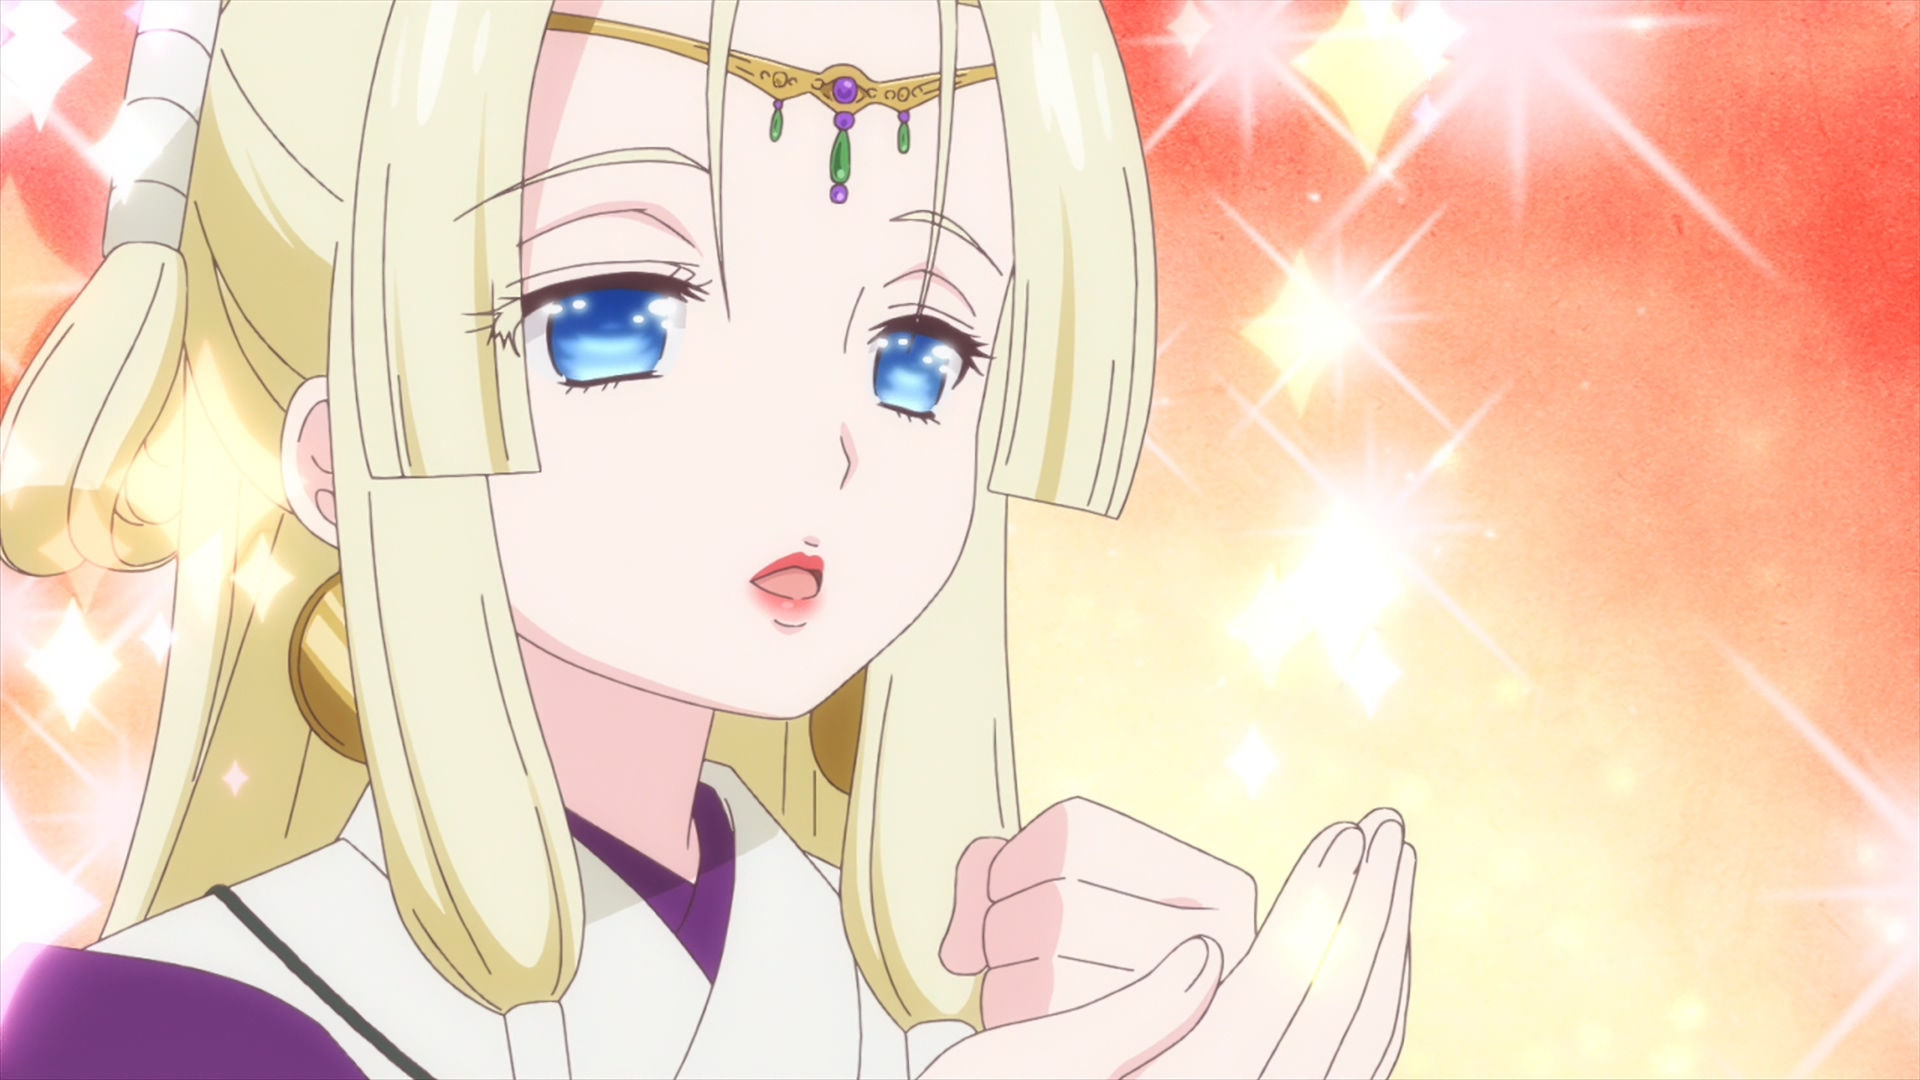其他: (1, 1, 1419, 1080)
